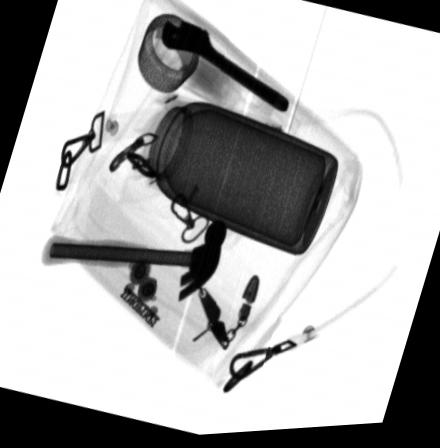Hammer: (40, 222, 228, 301)
Wrench: (158, 21, 290, 115)
